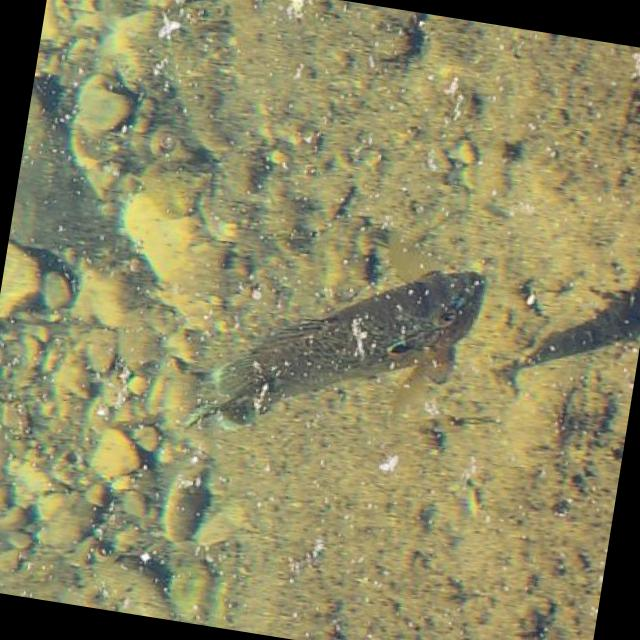Gunes Levregi: (173, 212, 497, 472)
